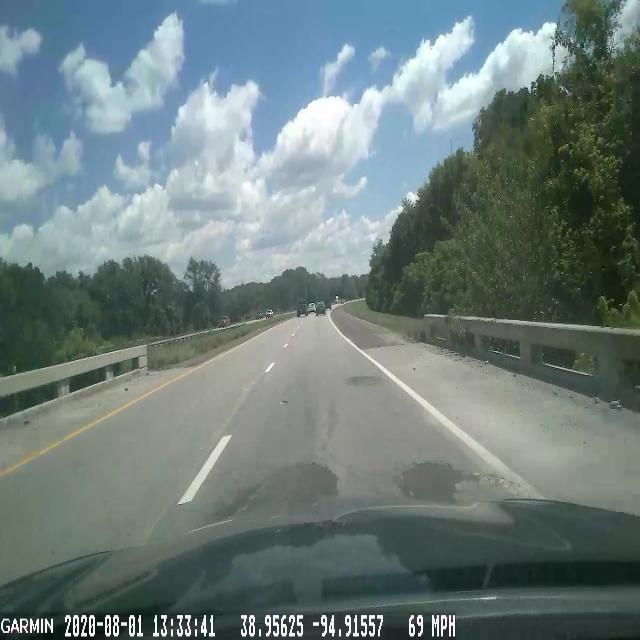Pothole: (225, 460, 355, 518), (390, 443, 514, 503), (340, 370, 388, 390)
